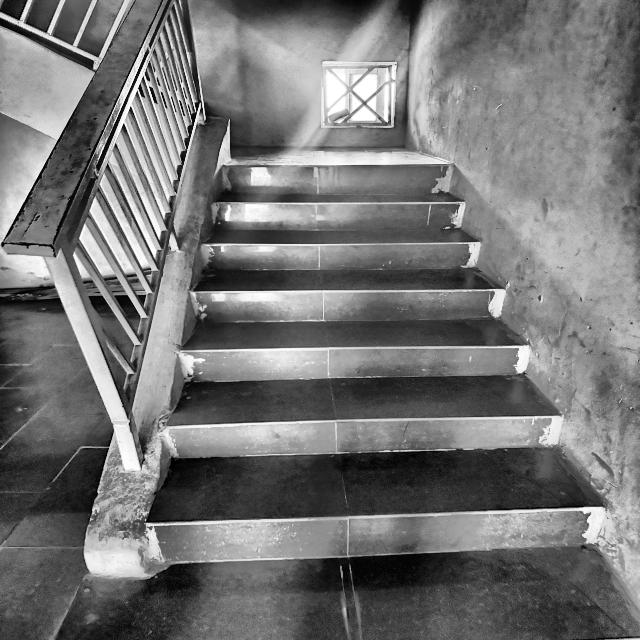staircase: (158, 145, 636, 631)
